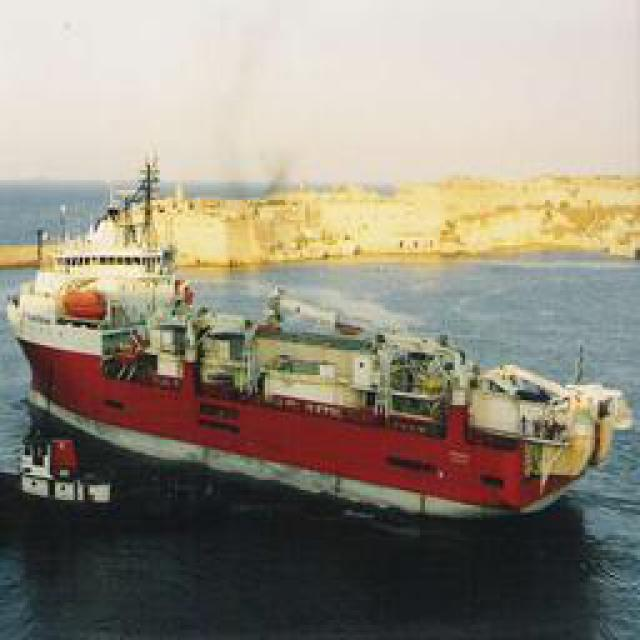Ship: (10, 213, 635, 521)
